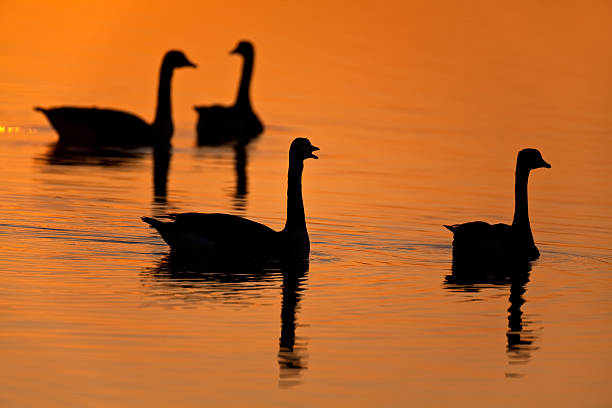goose: (140, 135, 321, 261), (27, 46, 198, 149), (442, 146, 553, 261), (193, 38, 267, 149)
